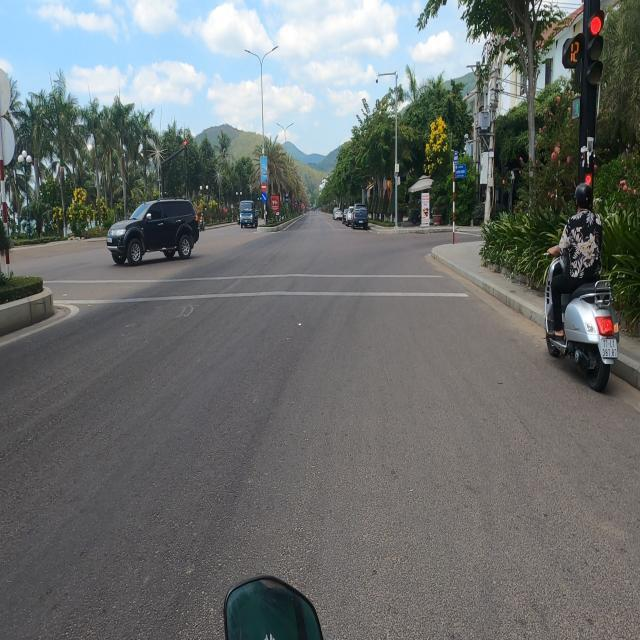walk-crossing: (84, 262, 468, 308)
